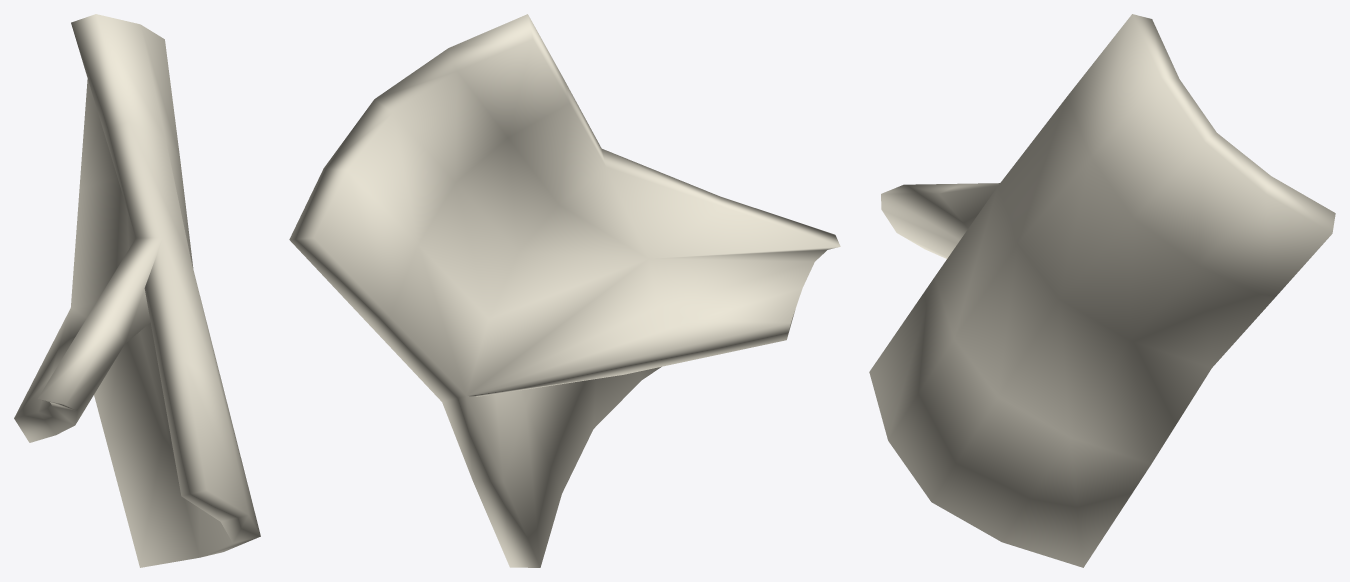
3 renders of one model, left to right at view 1: azimuth 30°, elevation 25°; view 2: azimuth 150°, elevation 25°; view 3: azimuth 270°, elevation 25°, orthographic. The views are drawn at different scales.
Visible parts, largest first — view 1: ZA_9eb02d8e759dce1d; view 2: ZA_9eb02d8e759dce1d; view 3: ZA_9eb02d8e759dce1d.
Boxes of the visible parts, box(x1,y1,x2,y2) form: ZA_9eb02d8e759dce1d: box(14, 14, 260, 567); ZA_9eb02d8e759dce1d: box(289, 14, 840, 567); ZA_9eb02d8e759dce1d: box(869, 14, 1335, 567).
Bounding box in the file's own units: 0.00571 × 0.00998 × 0.0079.
